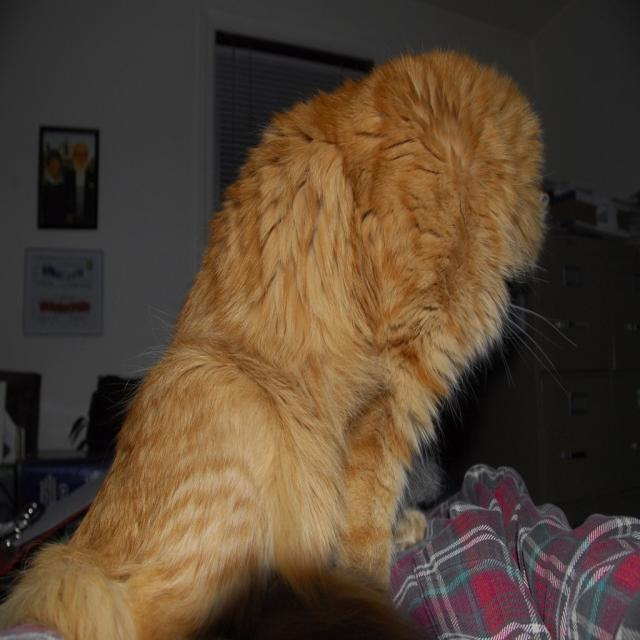Cat: (0, 37, 576, 639)
